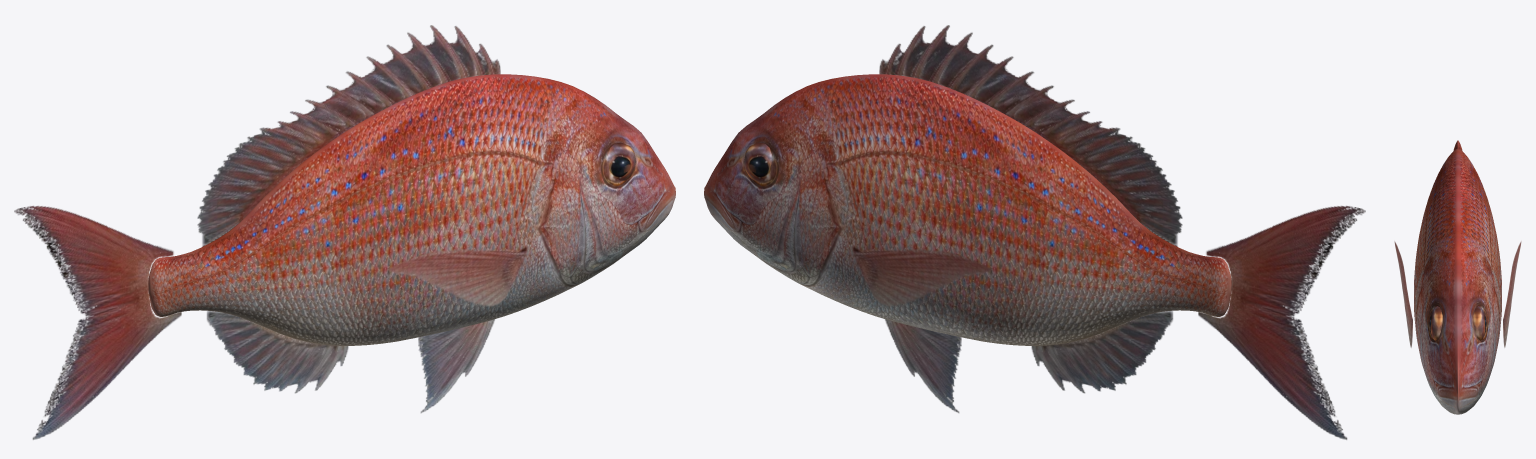
The model's file is madai.glb.
3 renders of one model, left to right at view 1: azimuth 30°, elevation 25°; view 2: azimuth 150°, elevation 25°; view 3: azimuth 270°, elevation 25°, orthographic. The views are drawn at different scales.
Visible parts, largest first — view 1: madai; view 2: madai; view 3: madai.
Part boxes in pixels (<box>): madai: <box>14,25,675,439</box>; madai: <box>704,25,1365,439</box>; madai: <box>1394,140,1521,414</box>.
Bounding box in the file's own units: 0.4507 × 0.251 × 0.0914.
Materials: 1 (1 with a texture image).
